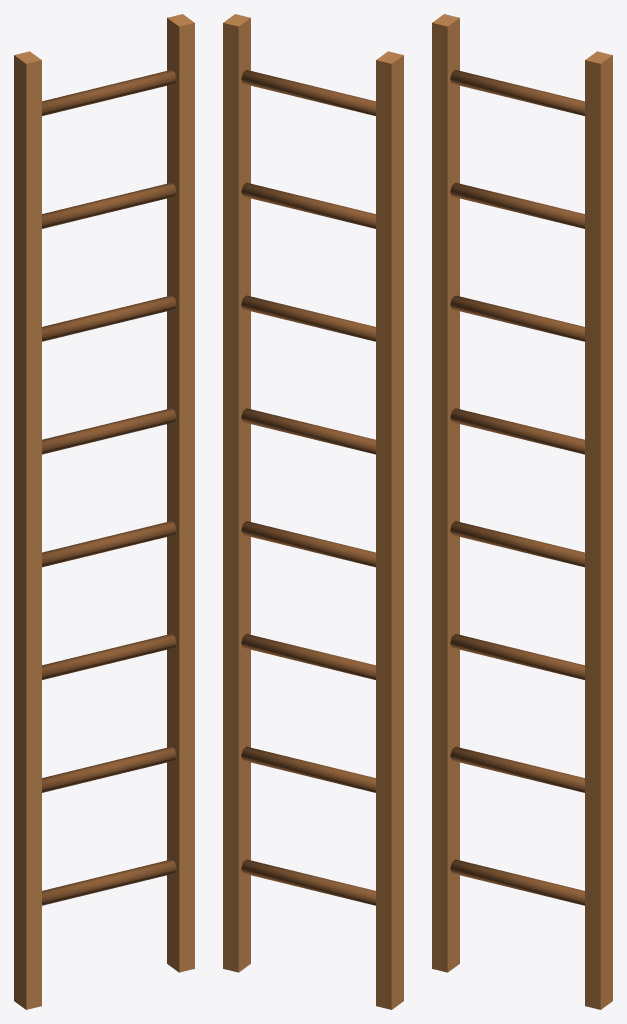
Rendered from ladder.glb.
3 renders of one model, left to right at view 1: azimuth 30°, elevation 25°; view 2: azimuth 150°, elevation 25°; view 3: azimuth 330°, elevation 25°, orthographic.
Parts seen in each view (by area): view 1: ladder-rail-l, ladder-rail-r, ladder-rung-0, ladder-rung-3, ladder-rung-4, ladder-rung-6, ladder-rung-1, ladder-rung-5, ladder-rung-7, ladder-rung-2; view 2: ladder-rail-l, ladder-rail-r, ladder-rung-0, ladder-rung-3, ladder-rung-4, ladder-rung-6, ladder-rung-1, ladder-rung-5, ladder-rung-7, ladder-rung-2; view 3: ladder-rail-r, ladder-rail-l, ladder-rung-0, ladder-rung-3, ladder-rung-4, ladder-rung-6, ladder-rung-1, ladder-rung-5, ladder-rung-7, ladder-rung-2.
Part boxes in pixels (box(x1,y1,x2,y2)): ladder-rail-l: box(14, 51, 41, 1009); ladder-rail-r: box(167, 14, 194, 972); ladder-rung-0: box(42, 859, 176, 905); ladder-rung-3: box(42, 521, 176, 567); ladder-rung-4: box(42, 408, 176, 454); ladder-rung-6: box(42, 182, 176, 228); ladder-rung-1: box(42, 746, 176, 792); ladder-rung-5: box(42, 295, 176, 341); ladder-rung-7: box(42, 70, 176, 115); ladder-rung-2: box(42, 634, 176, 679); ladder-rail-l: box(376, 51, 403, 1009); ladder-rail-r: box(223, 14, 250, 972); ladder-rung-0: box(241, 859, 375, 905); ladder-rung-3: box(241, 521, 375, 567); ladder-rung-4: box(241, 408, 375, 454); ladder-rung-6: box(241, 182, 375, 228); ladder-rung-1: box(241, 746, 375, 792); ladder-rung-5: box(241, 295, 375, 341); ladder-rung-7: box(241, 70, 375, 115); ladder-rung-2: box(241, 634, 375, 679); ladder-rail-r: box(585, 51, 612, 1009); ladder-rail-l: box(432, 14, 459, 972); ladder-rung-0: box(450, 859, 584, 905); ladder-rung-3: box(450, 521, 584, 567); ladder-rung-4: box(450, 408, 584, 454); ladder-rung-6: box(450, 182, 584, 228); ladder-rung-1: box(450, 746, 584, 792); ladder-rung-5: box(450, 295, 584, 341); ladder-rung-7: box(450, 70, 584, 115); ladder-rung-2: box(450, 634, 584, 679).
Bounding box in the file's own units: 0.485 × 2.6 × 0.06.
